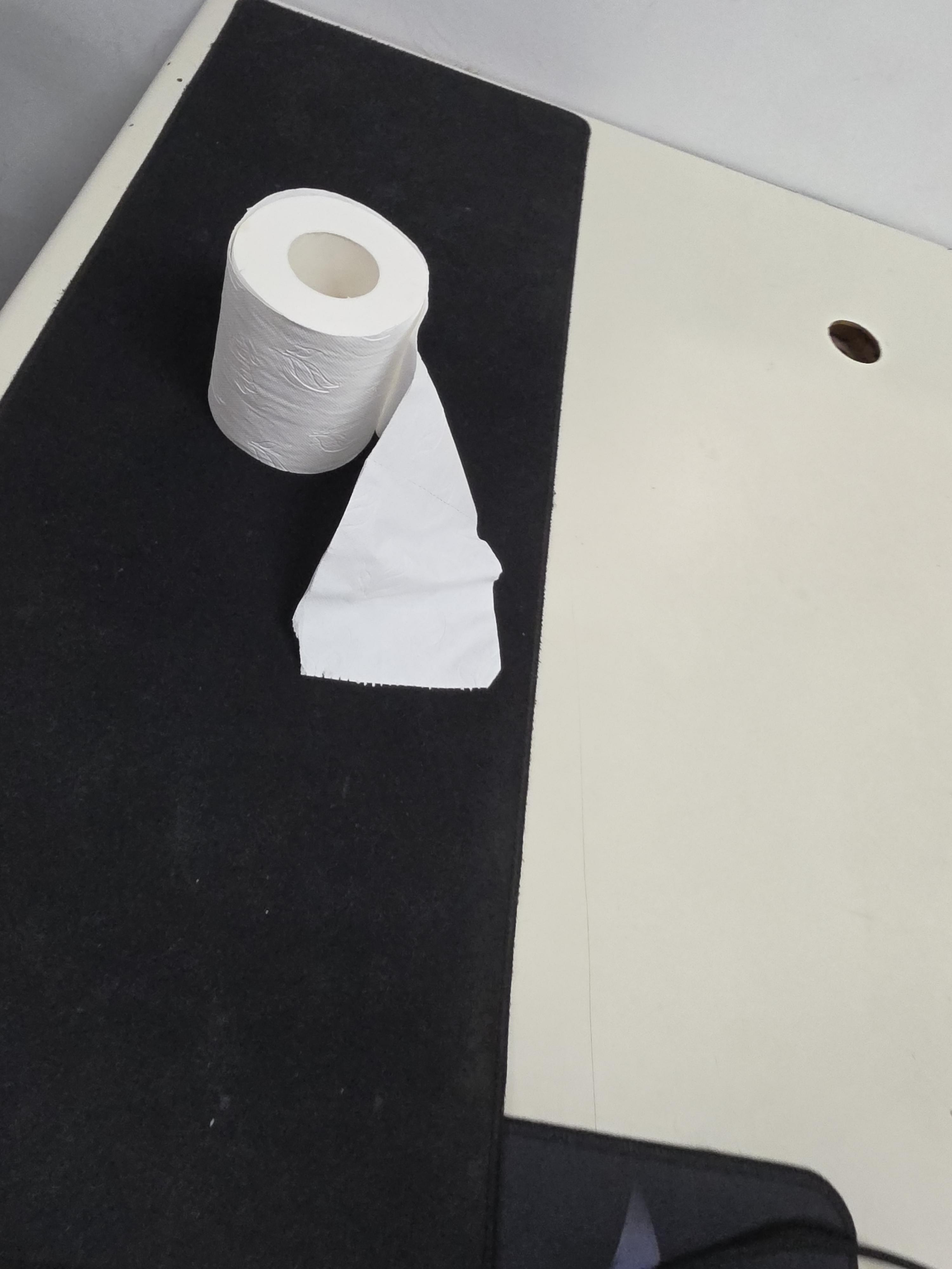tissue: (208, 188, 503, 690)
